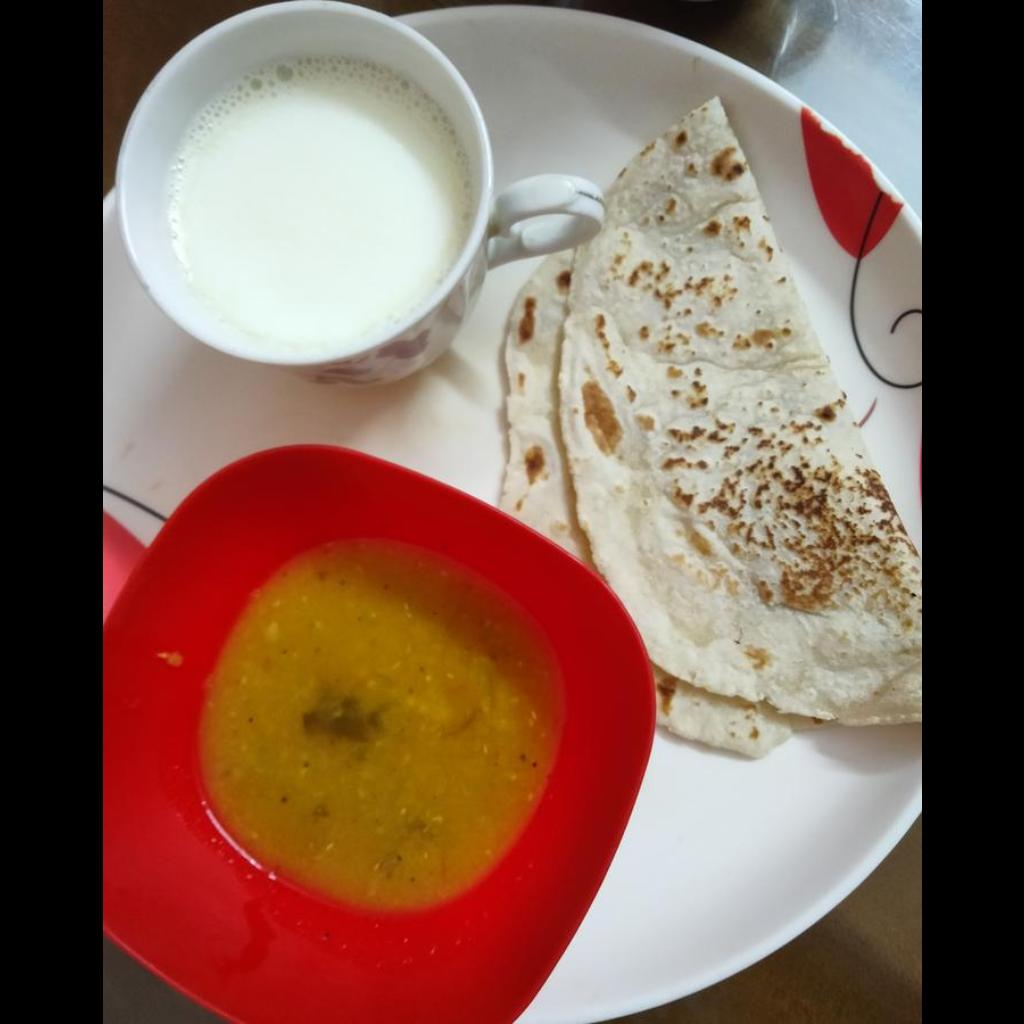daal: (202, 538, 562, 908)
milk: (161, 59, 471, 345)
ruti: (502, 90, 920, 762)
